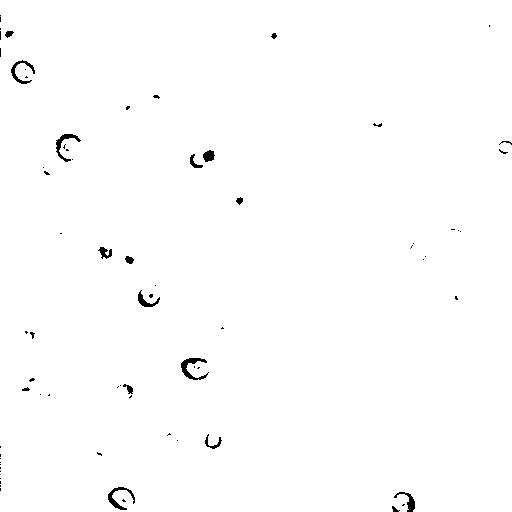micro-algae: (12, 133, 84, 203), (414, 456, 486, 511), (396, 109, 454, 169), (164, 351, 217, 403), (207, 313, 257, 362), (199, 136, 248, 181), (6, 378, 45, 414), (113, 95, 149, 132), (399, 315, 434, 349), (8, 363, 44, 396), (53, 132, 87, 164), (444, 282, 478, 311), (297, 484, 332, 511), (341, 366, 371, 397), (179, 355, 212, 382), (51, 216, 80, 244), (137, 279, 163, 309), (106, 486, 136, 512), (365, 107, 392, 135), (39, 443, 65, 471), (10, 59, 36, 85), (442, 226, 468, 251), (0, 20, 22, 49), (118, 246, 144, 270), (390, 490, 418, 512), (19, 324, 43, 349), (261, 23, 286, 47), (478, 16, 502, 41), (34, 158, 60, 181), (409, 237, 432, 262), (140, 444, 164, 466), (261, 103, 283, 126), (113, 382, 136, 403), (29, 380, 52, 401), (68, 499, 104, 512), (95, 238, 115, 260), (87, 450, 109, 470), (458, 115, 477, 136), (204, 430, 223, 450), (165, 426, 184, 443), (31, 0, 59, 11), (189, 151, 207, 168), (201, 147, 218, 164), (230, 194, 251, 207), (497, 139, 512, 155), (446, 78, 460, 93), (128, 0, 154, 8)
